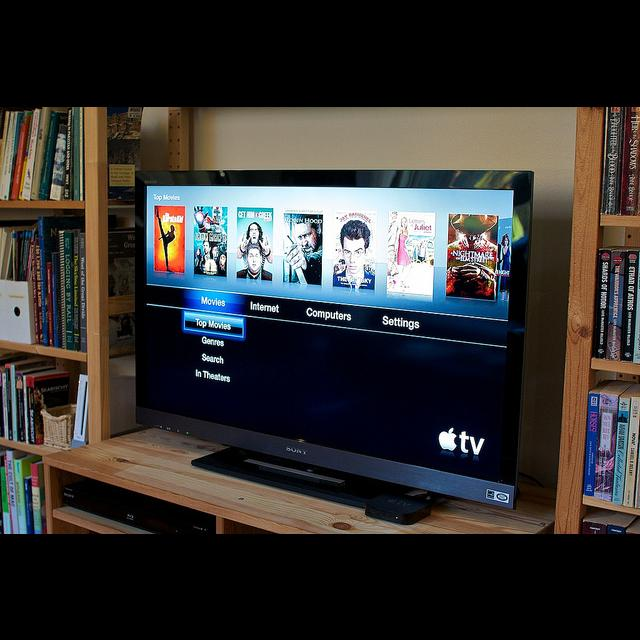Flat-Panel-TV: (130, 168, 536, 514)
